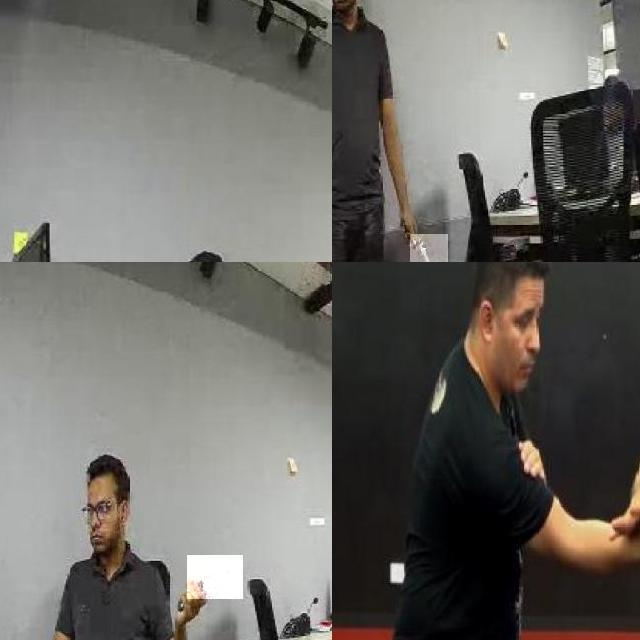-: (187, 555, 243, 599), (410, 234, 447, 262)
